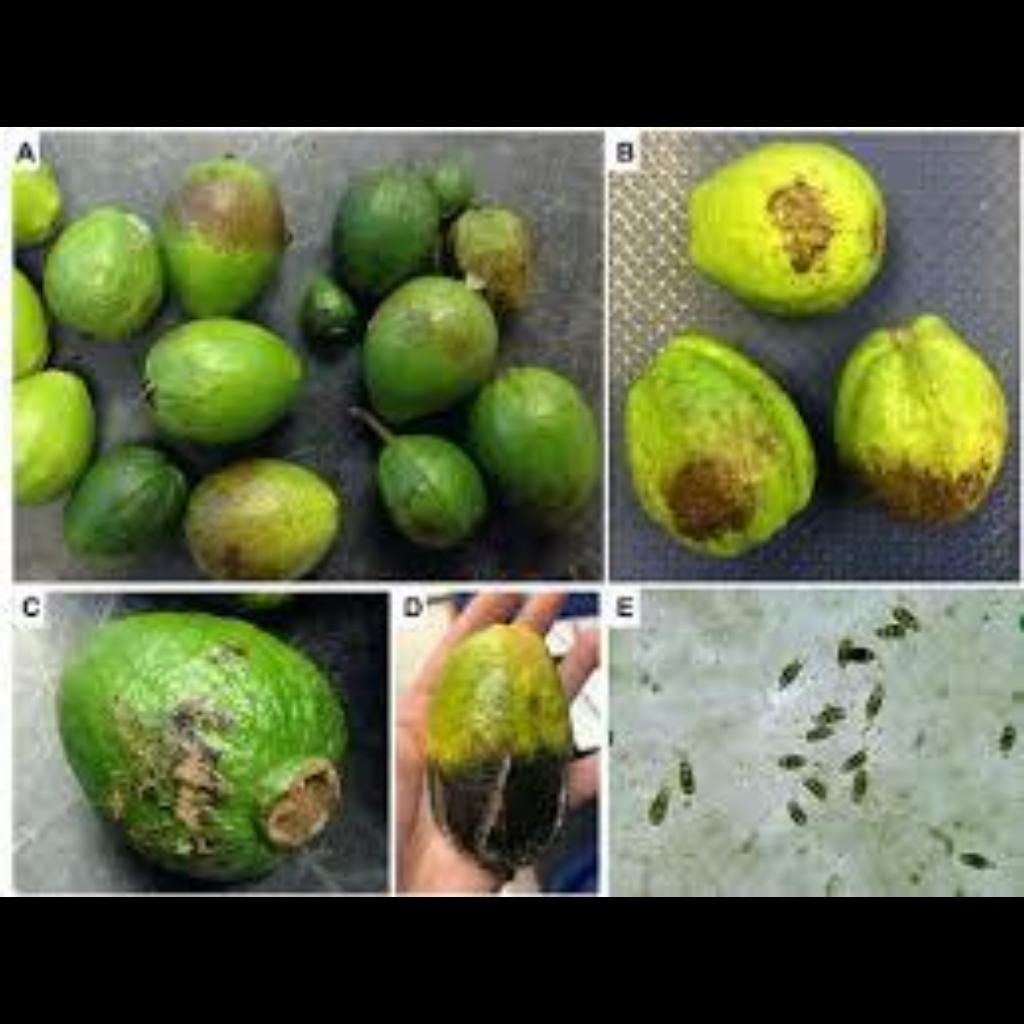Anthracnose: (425, 698, 571, 864), (852, 382, 1002, 524), (654, 396, 774, 538), (156, 170, 294, 278), (734, 170, 876, 274), (192, 462, 294, 574)
